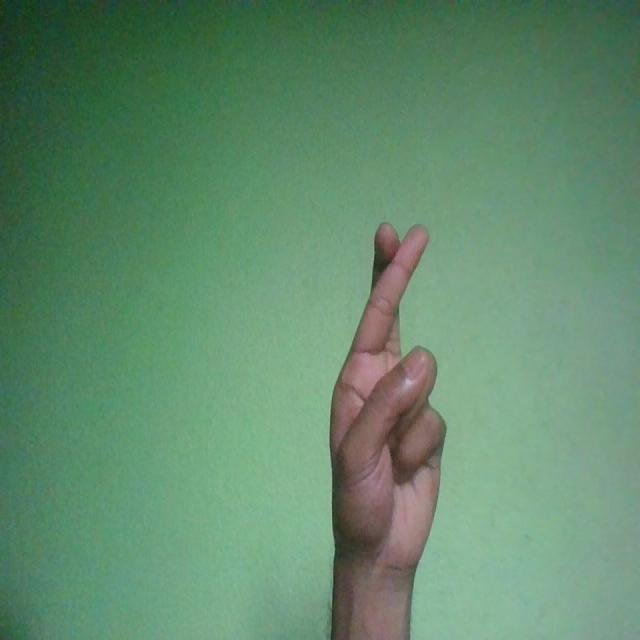Ok: (331, 222, 448, 583)
